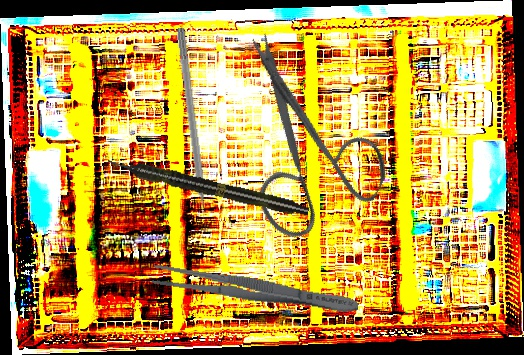Dressing Forceps: (150, 260, 361, 320)
Handpiece: (105, 152, 311, 221)
Iris Scissors: (178, 27, 420, 265)
Pusher: (174, 27, 210, 232)
